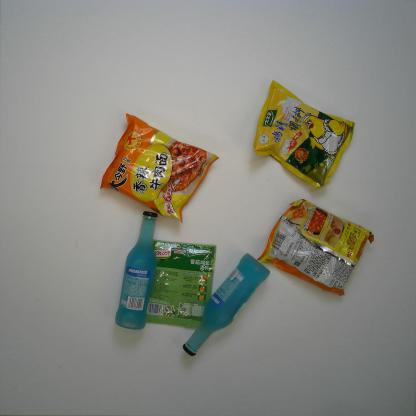Alcohol: (182, 249, 272, 359), (112, 208, 158, 332)
Instant Noodles: (97, 110, 219, 224), (258, 197, 376, 294)
Seasoner: (250, 77, 356, 188), (142, 240, 216, 328)
